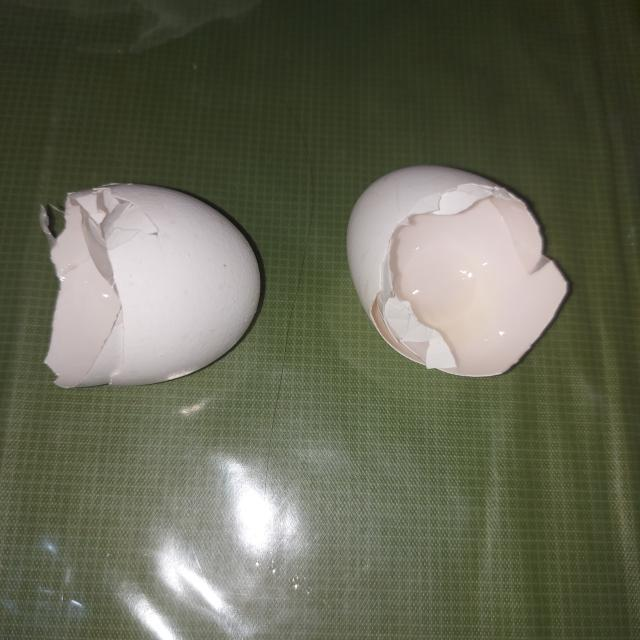egg shell: (343, 165, 572, 379), (36, 184, 264, 390)
